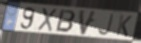9: (20, 6, 36, 30)
B: (54, 9, 77, 34)
J: (96, 13, 115, 36)
K: (115, 14, 134, 38)
V: (78, 9, 99, 37)
X: (37, 7, 58, 33)
